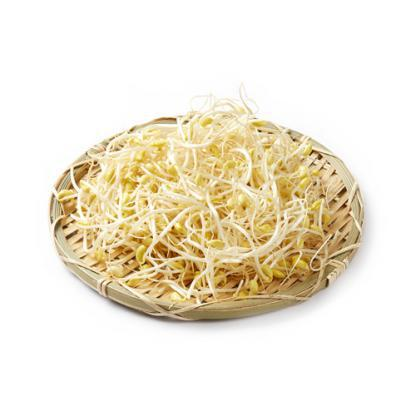bean sprouts: (80, 118, 340, 283)
